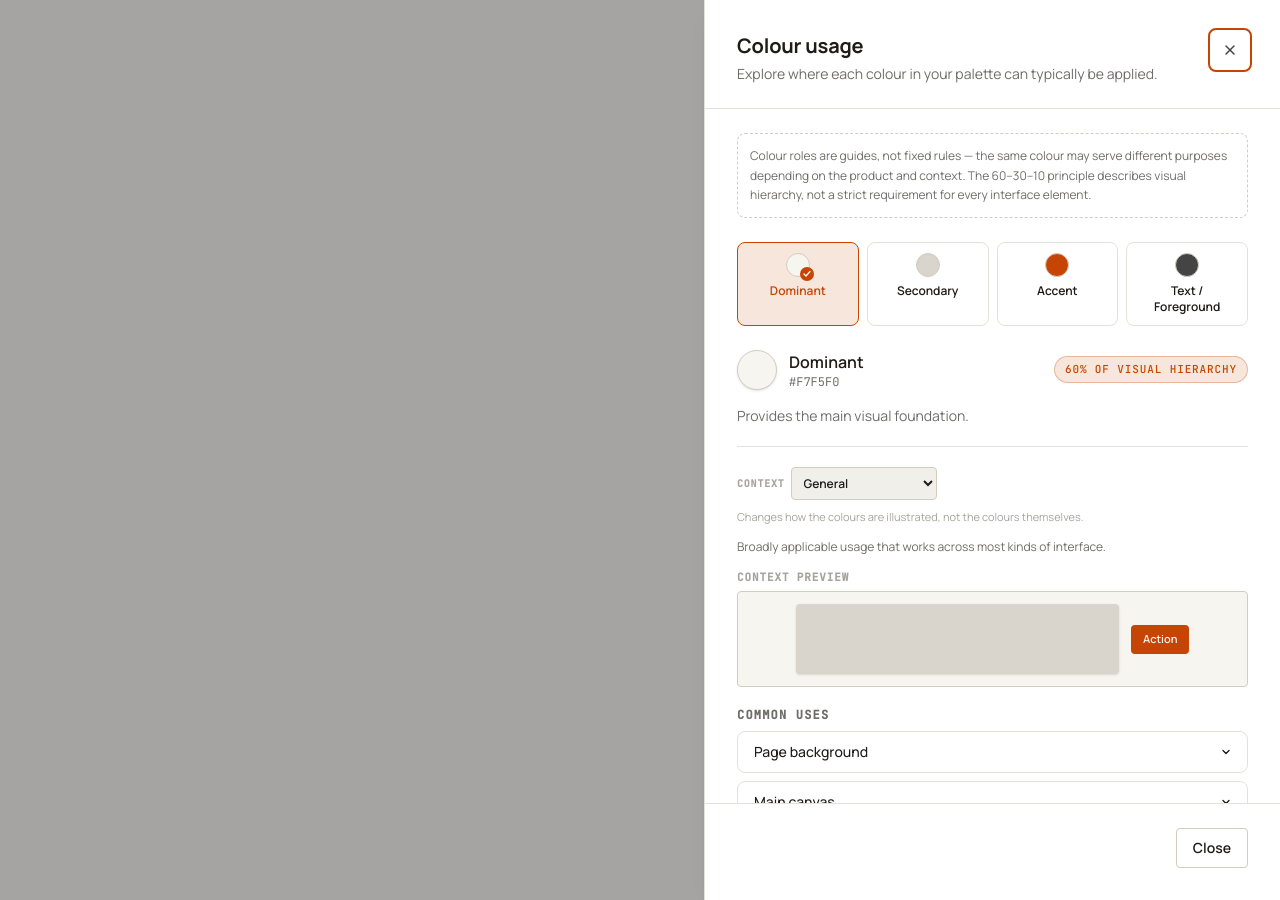
Test: ColourUsagePanel › expanding a usage item shows its description, category, and (where applicable) a live visual example
This screenshot has width=1280, height=900.
Click the heading "Page background": (811,752) left=754, top=742, right=1231, bottom=761
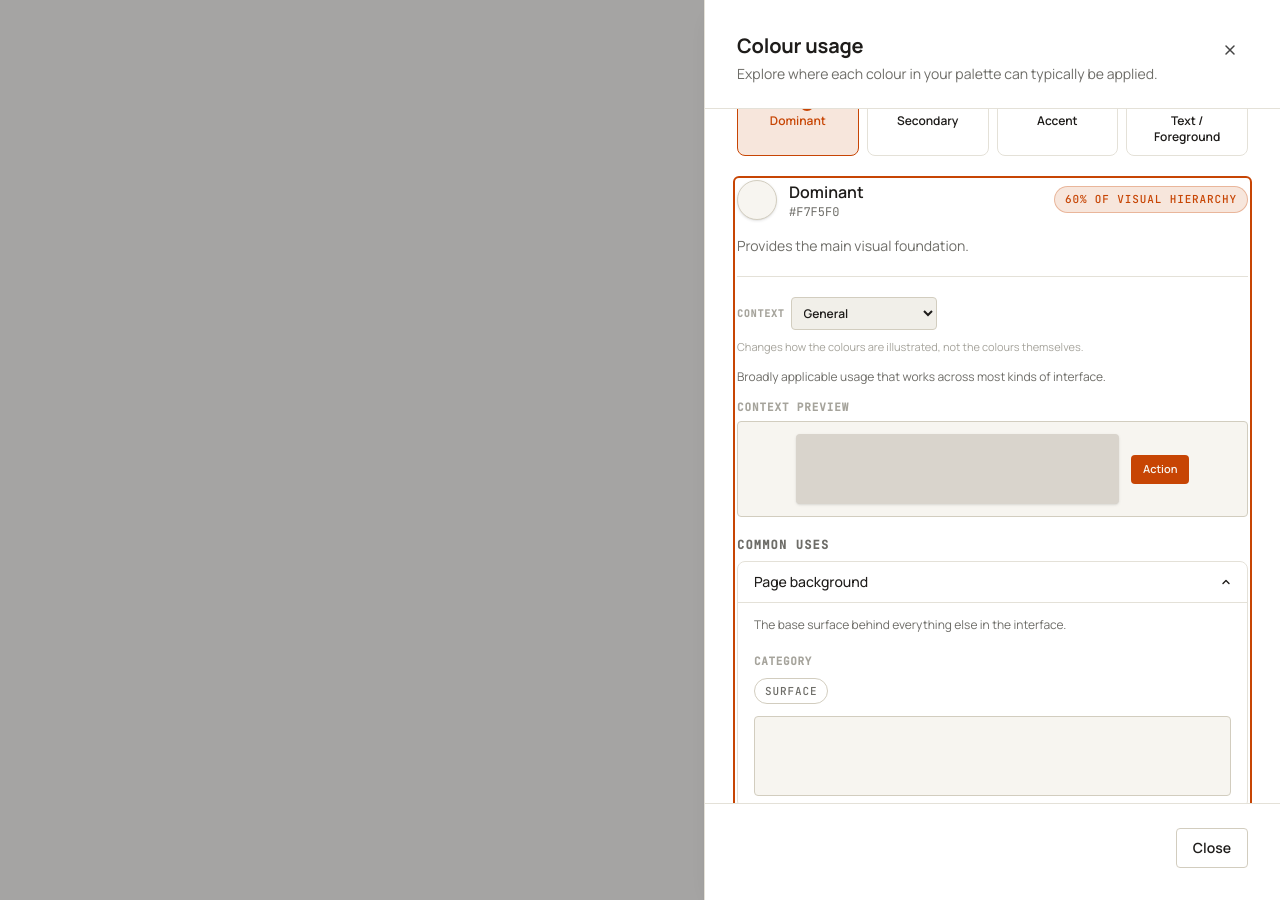
Expected: the text "The base surface behind everything else in the interface." is shown, left=754, top=616, right=1066, bottom=633
Expected: the text "Surface" is shown, left=754, top=678, right=828, bottom=704
Expected: the picture named "Miniature page canvas using your Dominant colour, #F7F5F0" is shown, left=754, top=716, right=1231, bottom=796
